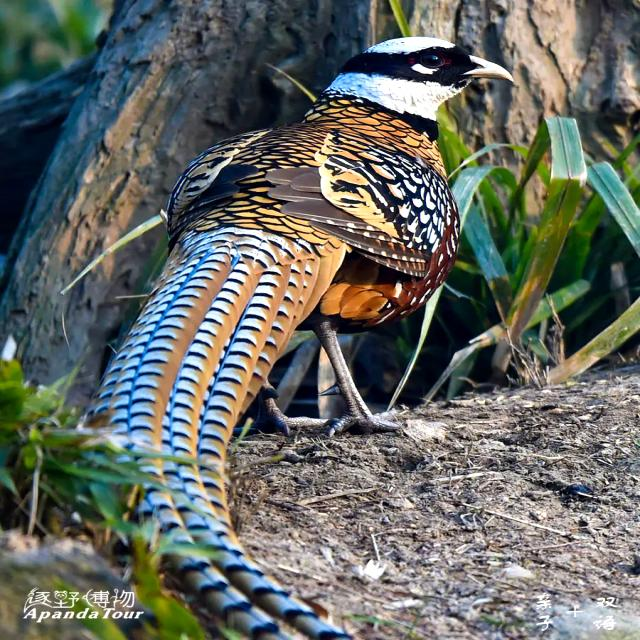Reeves-s Pheasant: (87, 226, 364, 640)
